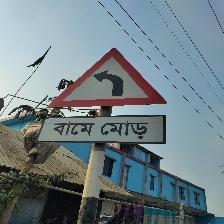Left-Turn: (44, 48, 170, 143)
